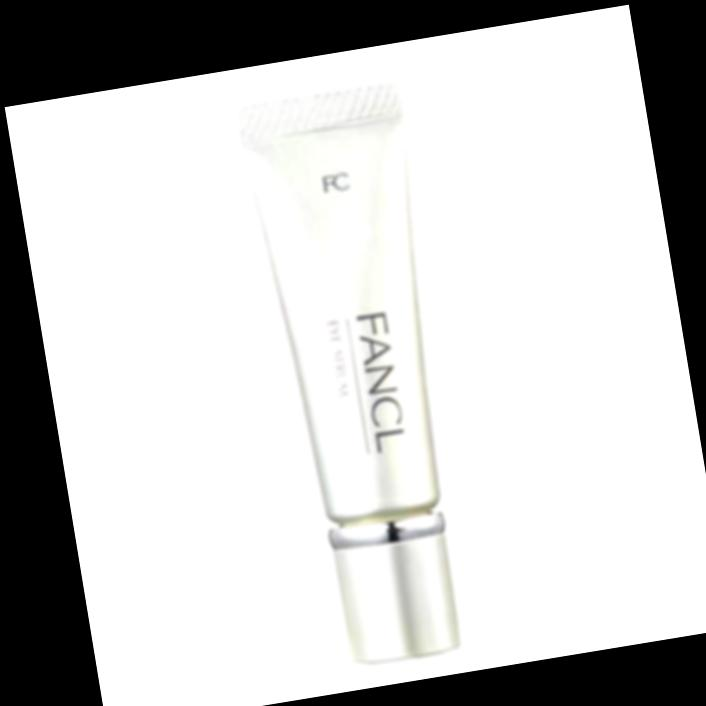cosmetic: (235, 79, 481, 672)
